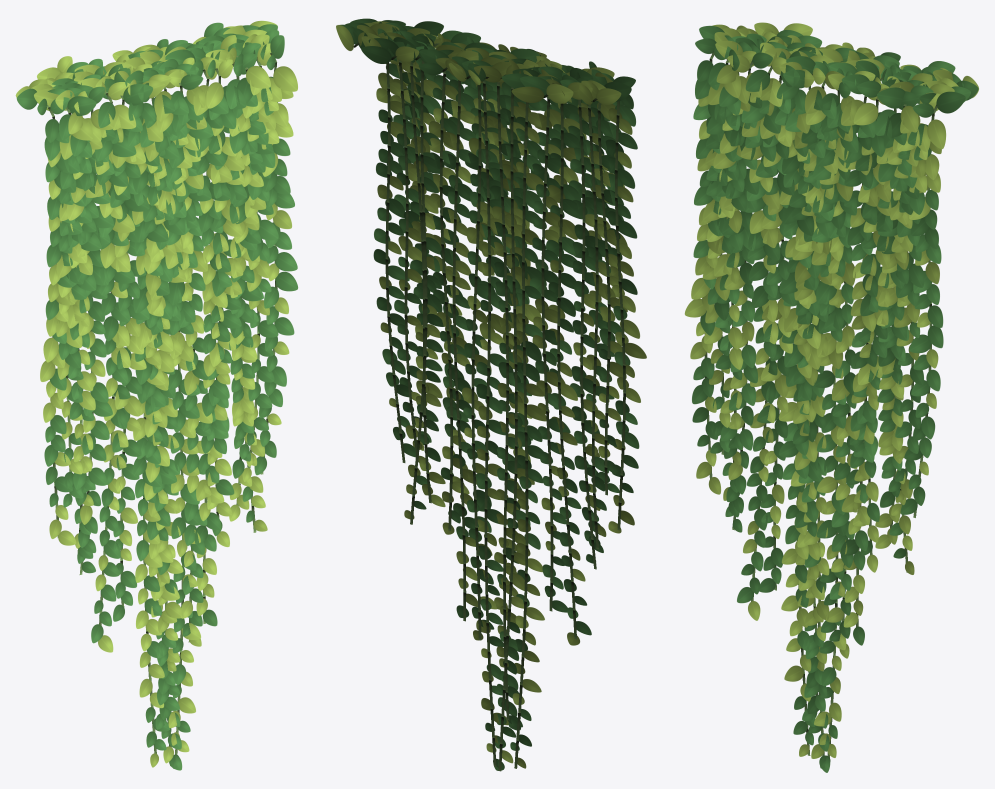
File: plaza_vine_long.glb
The picture shows the model from 3 angles, left to right: view 1: azimuth 30°, elevation 25°; view 2: azimuth 150°, elevation 25°; view 3: azimuth 330°, elevation 25°; orthographic projection. The views are drawn at different scales.
Parts seen in each view (by area): view 1: plaza_vine_long; view 2: plaza_vine_long; view 3: plaza_vine_long.
Boxes of the visible parts, box(x1,y1,x2,y2) form: plaza_vine_long: box(15, 20, 297, 770); plaza_vine_long: box(336, 18, 646, 771); plaza_vine_long: box(684, 22, 978, 772).
Bounding box in the file's own units: 3.92 × 9.59 × 1.26.
Materials: 3 (3 with a texture image).
